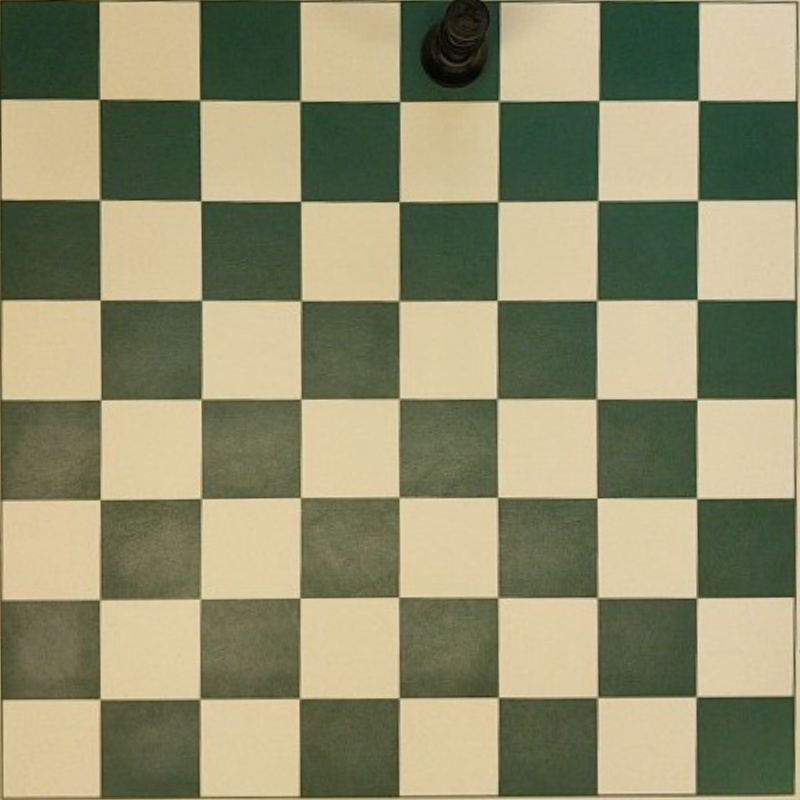black-king: (422, 0, 489, 84)
